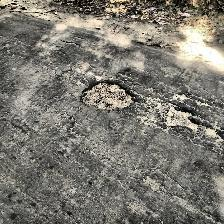pothole: (80, 80, 134, 111), (162, 105, 198, 133)
